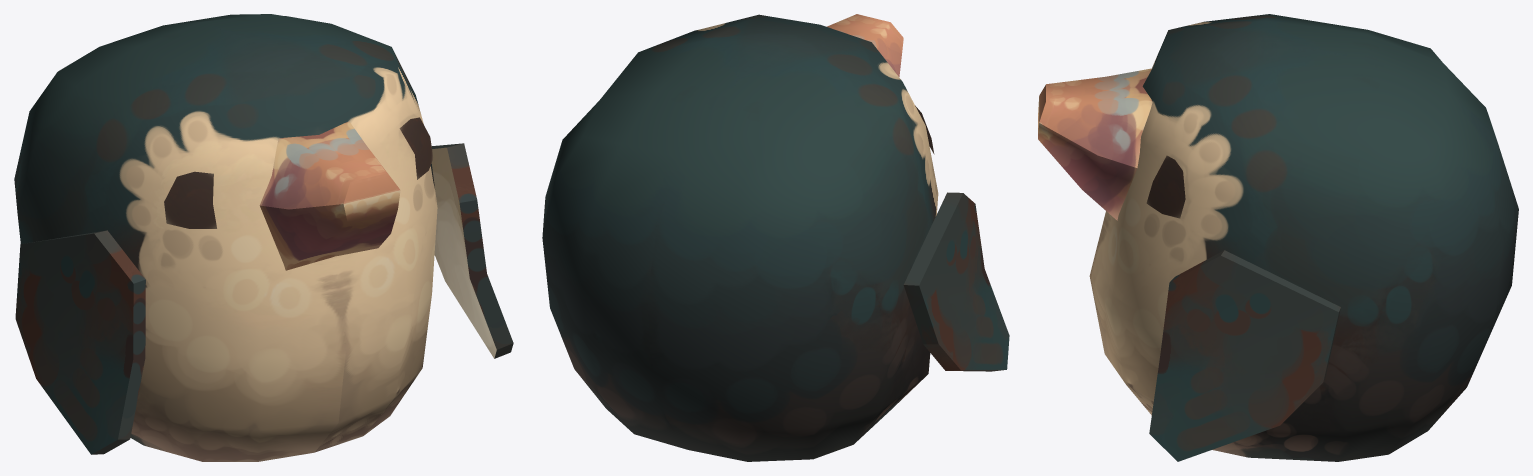
The model's file is penguin_stillmesh.fbx.
The picture shows the model from 3 angles, left to right: view 1: azimuth 30°, elevation 25°; view 2: azimuth 150°, elevation 25°; view 3: azimuth 270°, elevation 25°; orthographic projection. The views are drawn at different scales.
Parts seen in each view (by area): view 1: penguin_stillMesh; view 2: penguin_stillMesh; view 3: penguin_stillMesh.
Part boxes in pixels (x1=…): penguin_stillMesh: x1=14, y1=14, x2=513, y2=461; penguin_stillMesh: x1=542, y1=14, x2=1009, y2=461; penguin_stillMesh: x1=1038, y1=14, x2=1518, y2=461.
Bounding box in the file's own units: 2.59 × 2.13 × 2.59.
1 material, 1 textured.
